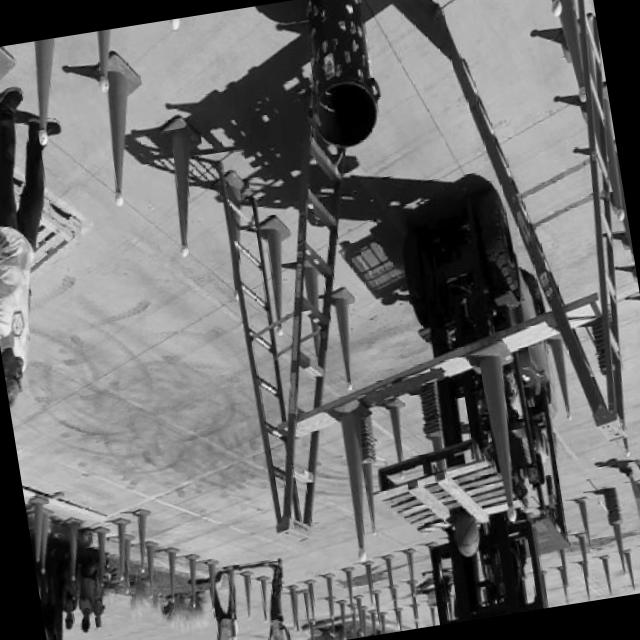person: (0, 103, 105, 408), (251, 562, 296, 640), (620, 463, 640, 593), (37, 579, 68, 640), (204, 607, 242, 640)
